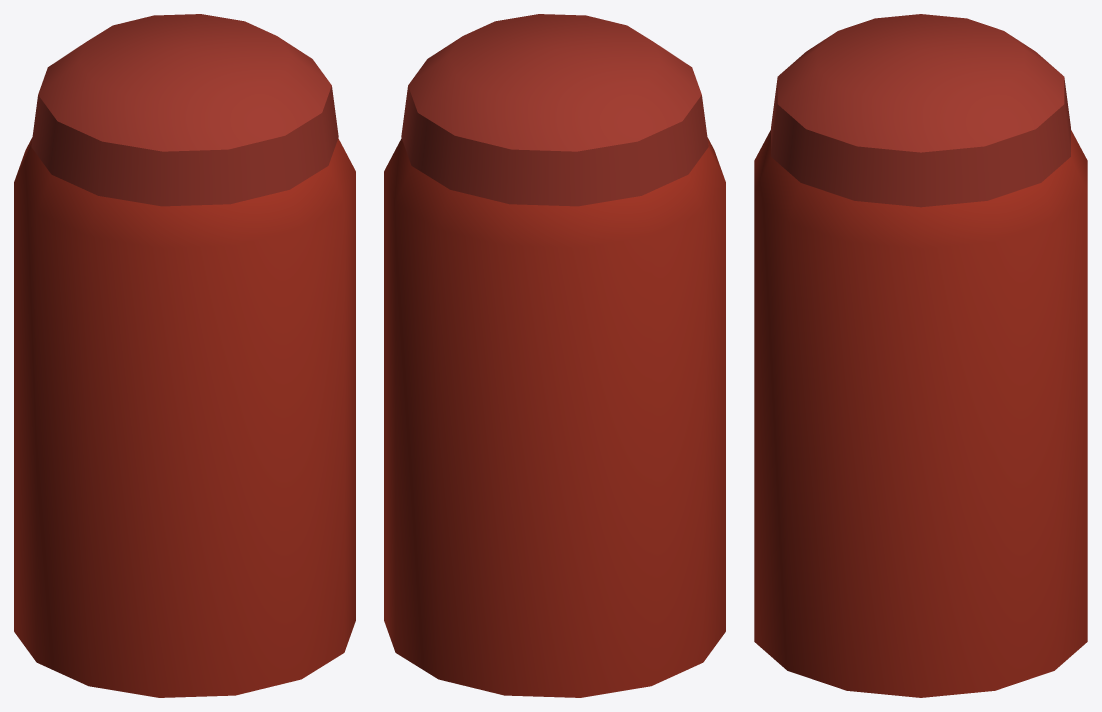
The model's file is tpl_dispensa_vaso_l_pomodori.glb.
The picture shows the model from 3 angles, left to right: view 1: azimuth 30°, elevation 25°; view 2: azimuth 150°, elevation 25°; view 3: azimuth 270°, elevation 25°; orthographic projection.
Parts seen in each view (by area): view 1: tpl_dispensa_vaso_l_pomodori; view 2: tpl_dispensa_vaso_l_pomodori; view 3: tpl_dispensa_vaso_l_pomodori.
Boxes of the visible parts, bbox=[...] form: tpl_dispensa_vaso_l_pomodori: bbox=[14, 14, 355, 697]; tpl_dispensa_vaso_l_pomodori: bbox=[384, 14, 725, 697]; tpl_dispensa_vaso_l_pomodori: bbox=[754, 14, 1087, 697].
Size of the model in its own units: 0.14 by 0.26 by 0.1365.
